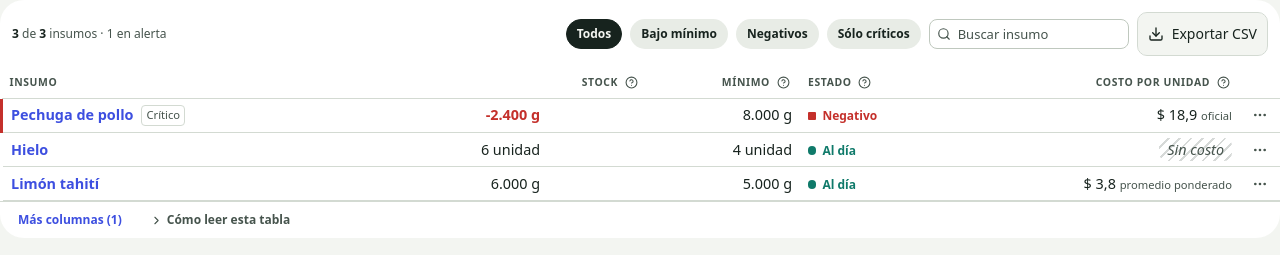
Scenario: StockTab — la tabla densa del handoff › buscar por nombre encuentra sin tildes, y el recuento dice cuántas quedaron afuera
expect the link "Hielo" is shown: met, box [11, 139, 48, 160]
Type "limon" into the search field labelled "Buscar insumo".
click(1029, 34); type("limon")  # box [929, 19, 1129, 49]
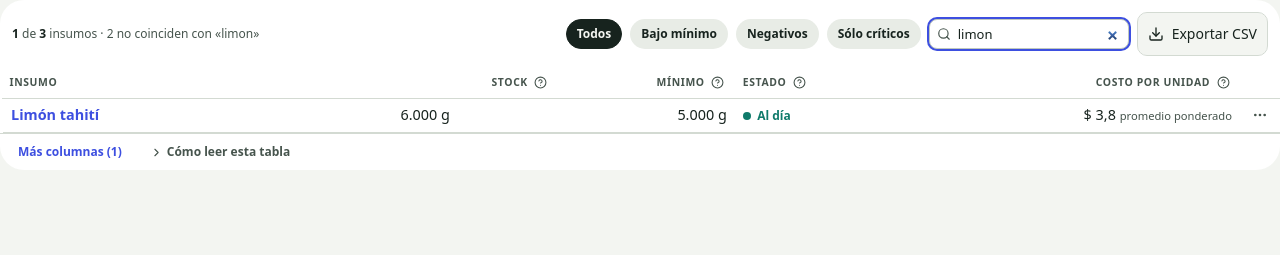
expect the link "Limón tahití" is shown: met, box [11, 104, 99, 126]
expect the link "Hielo" is gone: met
expect the text "1 de 3 insumos · 2 no coinciden con «limon»" is shown: met, box [12, 26, 259, 42]
